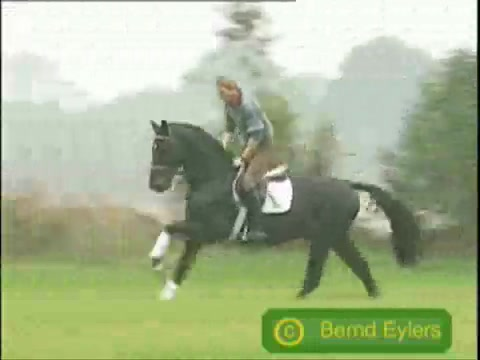horse: (149, 121, 423, 301)
